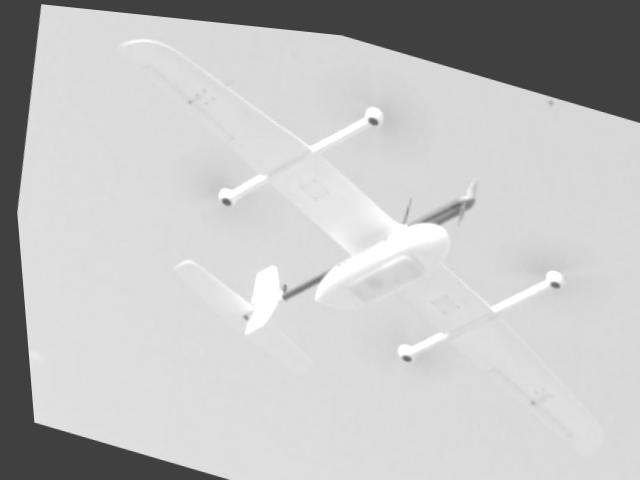hedef: (38, 3, 640, 480)
